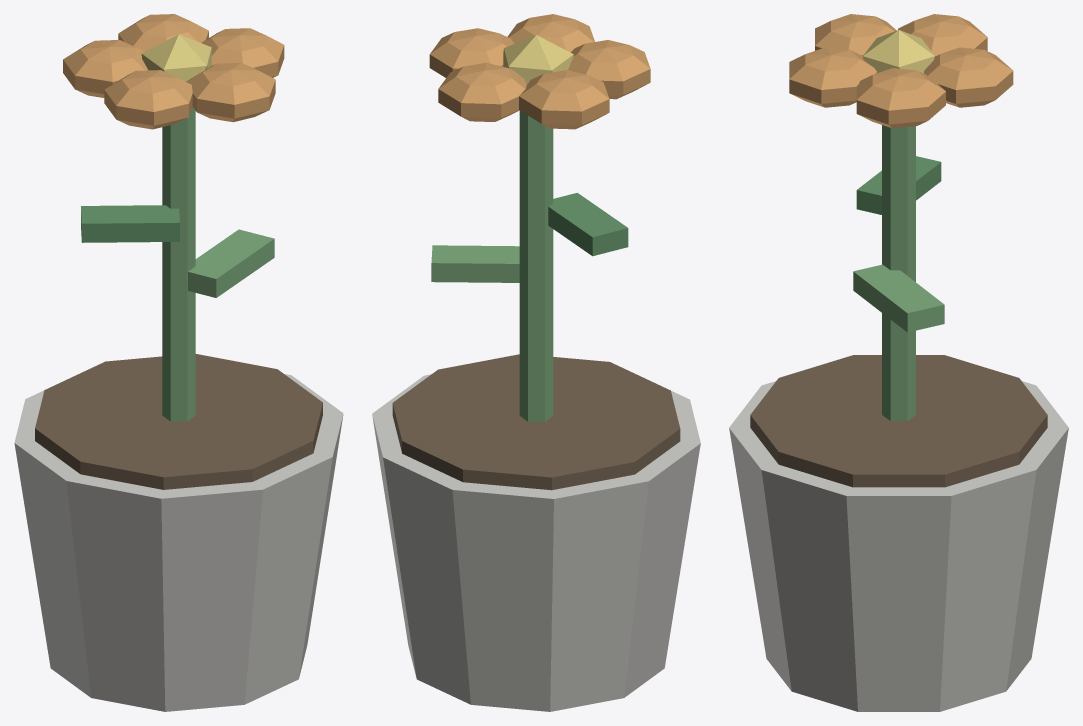
The model's file is pla_flor_sala.glb.
3 views of the same model, side by side, from view 1: azimuth 30°, elevation 25°; view 2: azimuth 150°, elevation 25°; view 3: azimuth 270°, elevation 25° (orthographic).
Parts seen in each view (by area): view 1: PLA_FLOR_SALA_v01; view 2: PLA_FLOR_SALA_v01; view 3: PLA_FLOR_SALA_v01.
Part boxes in pixels (x1,y1,x2,y2): PLA_FLOR_SALA_v01: (14,14,343,711); PLA_FLOR_SALA_v01: (372,14,700,711); PLA_FLOR_SALA_v01: (729,14,1068,711).
Size of the model in its own units: 0.2283 by 0.49 by 0.24.
